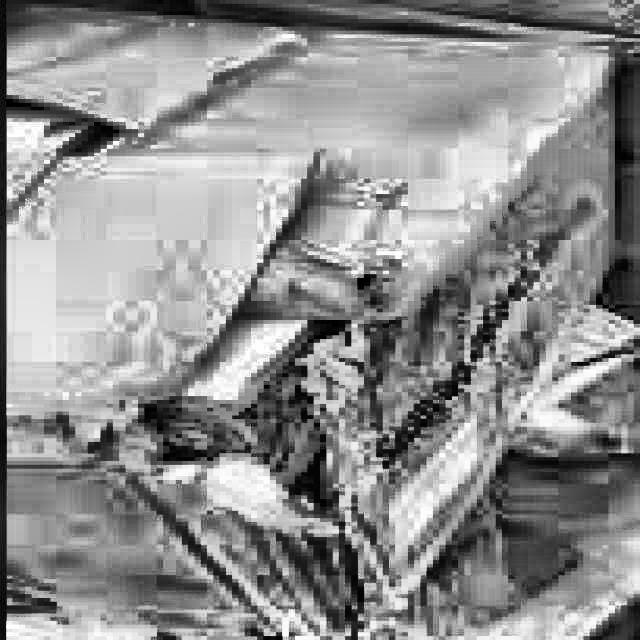box: (0, 0, 633, 639)
hole: (120, 295, 369, 539)
